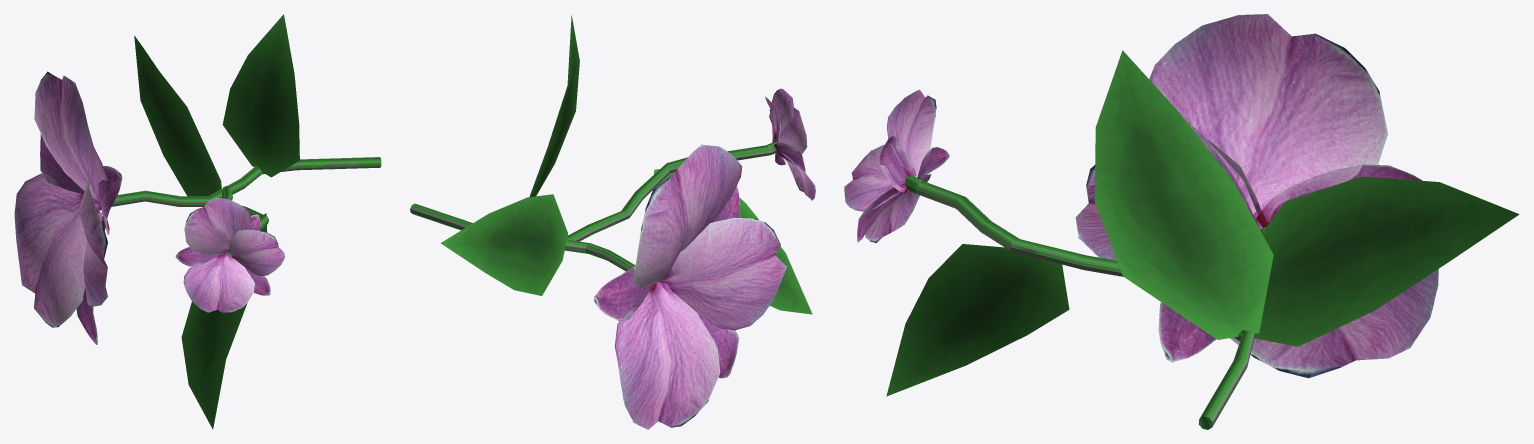
Rendered from orchid 1.fbx.
The picture shows the model from 3 angles, left to right: view 1: azimuth 30°, elevation 25°; view 2: azimuth 150°, elevation 25°; view 3: azimuth 270°, elevation 25°; orthographic projection. The views are drawn at different scales.
Visible parts, largest first — view 1: pPlane2, pPlane7, leaf1, leaf, leaf2, pCylinder1; view 2: pPlane2, leaf, pPlane7, leaf1, pCylinder2, leaf2, pCylinder1; view 3: pPlane2, leaf1, leaf, leaf2, pPlane7, pCylinder2, pCylinder1.
Part boxes in pixels (x1,y1,x2,y2): pPlane2: (14, 71, 122, 344); pPlane7: (175, 198, 284, 312); leaf1: (222, 14, 299, 177); leaf: (134, 35, 221, 196); leaf2: (181, 213, 267, 429); pCylinder1: (99, 157, 381, 208); pPlane2: (593, 144, 786, 429); leaf: (440, 194, 567, 295); pPlane7: (765, 88, 815, 200); leaf1: (529, 15, 579, 197); pCylinder2: (566, 141, 777, 241); leaf2: (654, 169, 812, 314); pCylinder1: (410, 203, 661, 284); pPlane2: (1075, 14, 1438, 378); leaf1: (1094, 50, 1273, 339); leaf: (1254, 176, 1519, 346); leaf2: (886, 244, 1069, 396); pPlane7: (844, 89, 949, 242); pCylinder2: (905, 175, 1123, 276); pCylinder1: (1199, 227, 1265, 429).
Size of the model in its own units: 13.67 by 12.91 by 17.43.
Materials: 2 (2 with a texture image).
